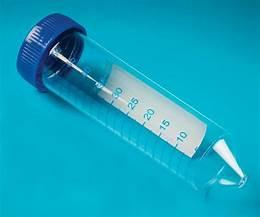Test tube: (10, 9, 247, 191)
